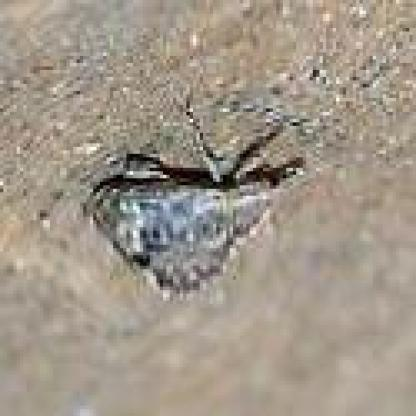rice-bug: (82, 109, 304, 299)
